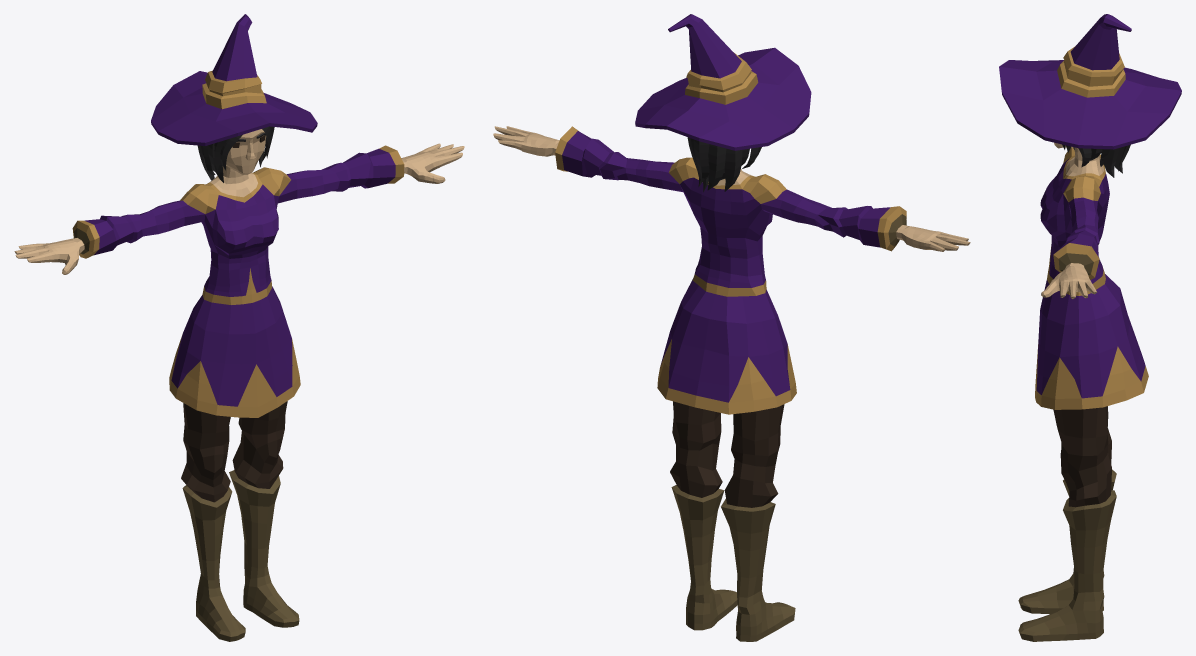
The model's file is Witch.fbx.
3 views of the same model, side by side, from view 1: azimuth 30°, elevation 25°; view 2: azimuth 150°, elevation 25°; view 3: azimuth 270°, elevation 25° (orthographic). The views are drawn at different scales.
Visible parts, largest first — view 1: Witch_Legs, Witch_Body, Witch_Head, Witch_Feet; view 2: Witch_Legs, Witch_Body, Witch_Head, Witch_Feet; view 3: Witch_Legs, Witch_Head, Witch_Body, Witch_Feet.
Part boxes in pixels (x1,y1,x2,y2): Witch_Legs: (169, 286, 300, 502); Witch_Body: (14, 143, 464, 304); Witch_Head: (151, 14, 317, 182); Witch_Feet: (182, 470, 299, 641); Witch_Legs: (657, 278, 796, 507); Witch_Body: (493, 126, 970, 296); Witch_Head: (635, 14, 811, 192); Witch_Feet: (671, 485, 795, 641); Witch_Legs: (1035, 274, 1148, 507); Witch_Head: (999, 14, 1181, 177); Witch_Body: (1040, 147, 1109, 298); Witch_Feet: (1018, 469, 1116, 641).
Bounding box in the file's own units: 165 × 205 × 54.82.
